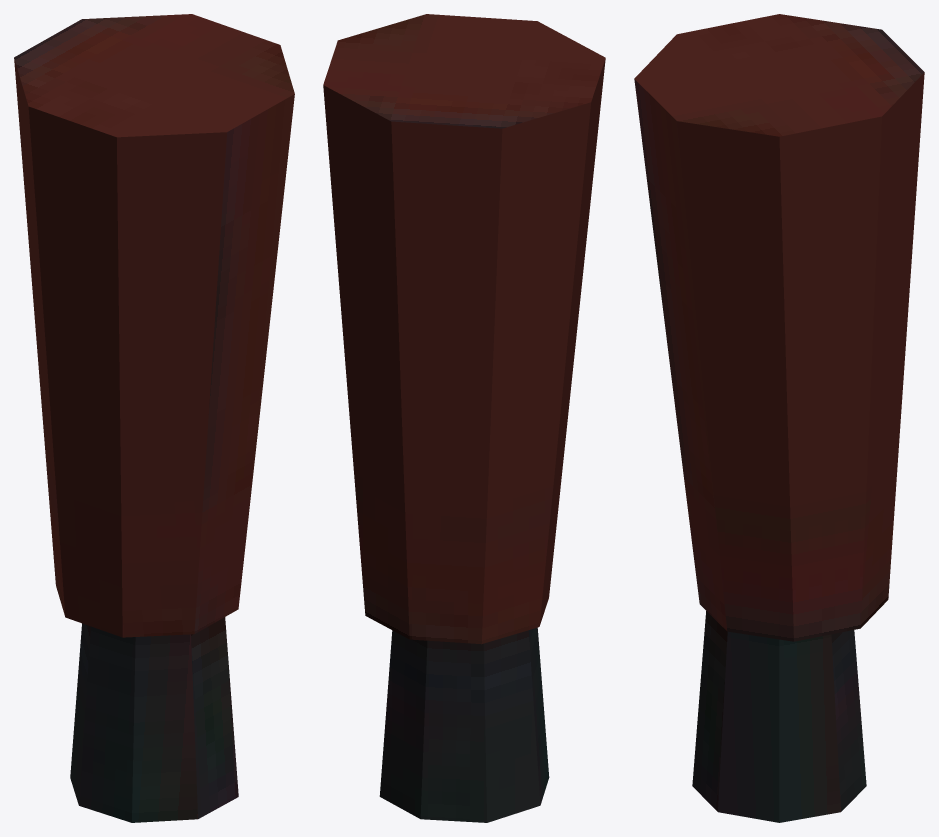
Rendered from jabali_pata.glb.
3 renders of one model, left to right at view 1: azimuth 30°, elevation 25°; view 2: azimuth 150°, elevation 25°; view 3: azimuth 270°, elevation 25°, orthographic.
Parts seen in each view (by area): view 1: jabali_pata; view 2: jabali_pata; view 3: jabali_pata.
Part boxes in pixels (x1=…): jabali_pata: x1=14, y1=14, x2=294, y2=822; jabali_pata: x1=323, y1=14, x2=605, y2=822; jabali_pata: x1=634, y1=14, x2=924, y2=822.
Bounding box in the file's own units: 0.2 × 0.5425 × 0.1999.
1 material, 1 textured.
